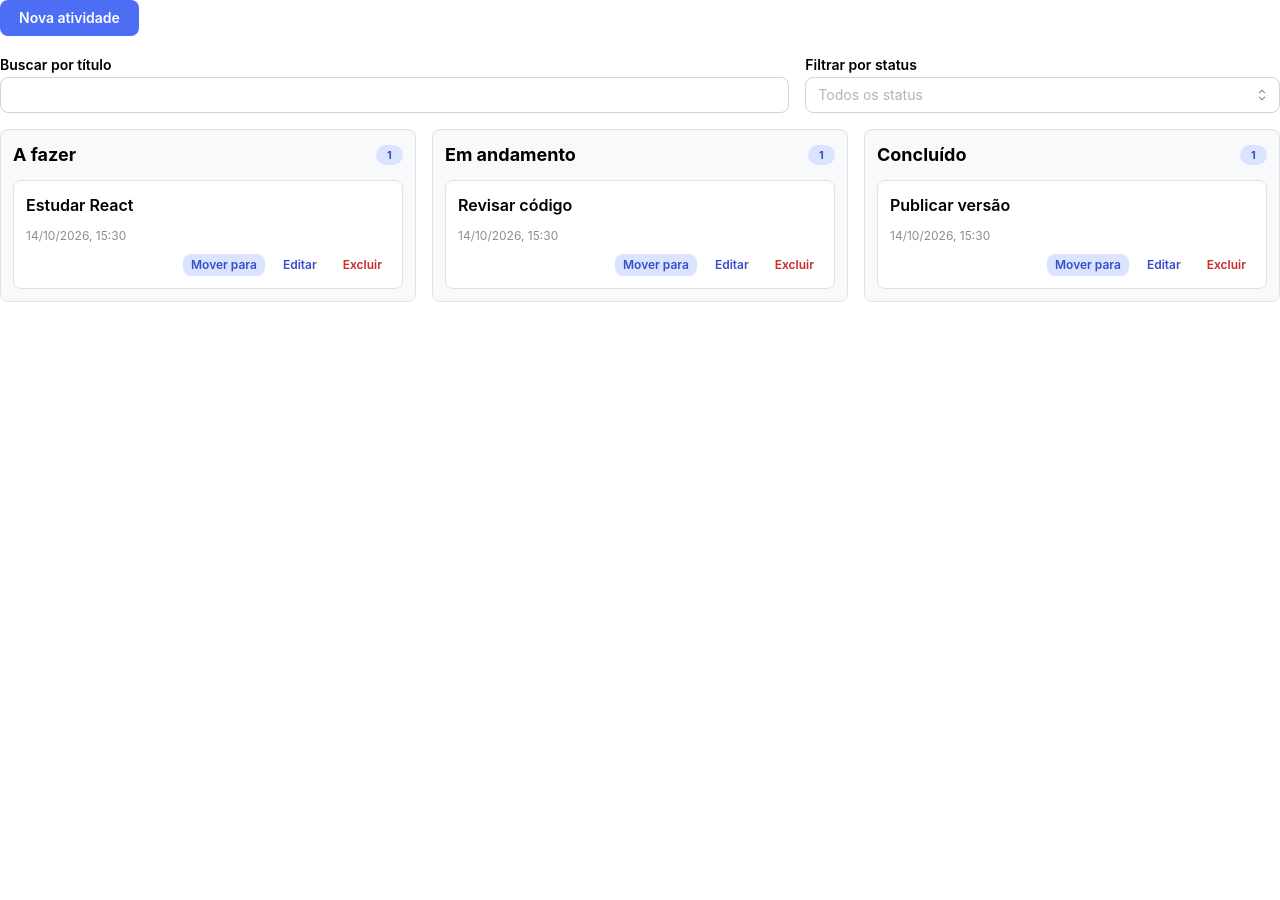
Test case: KanbanBoard › exclusão › só exclui depois da confirmação e notifica o sucesso
This screenshot has width=1280, height=900.
Click the button "Excluir" below "Estudar React".
click(362, 266)  # box top-left (335, 254), bottom-right (390, 276)
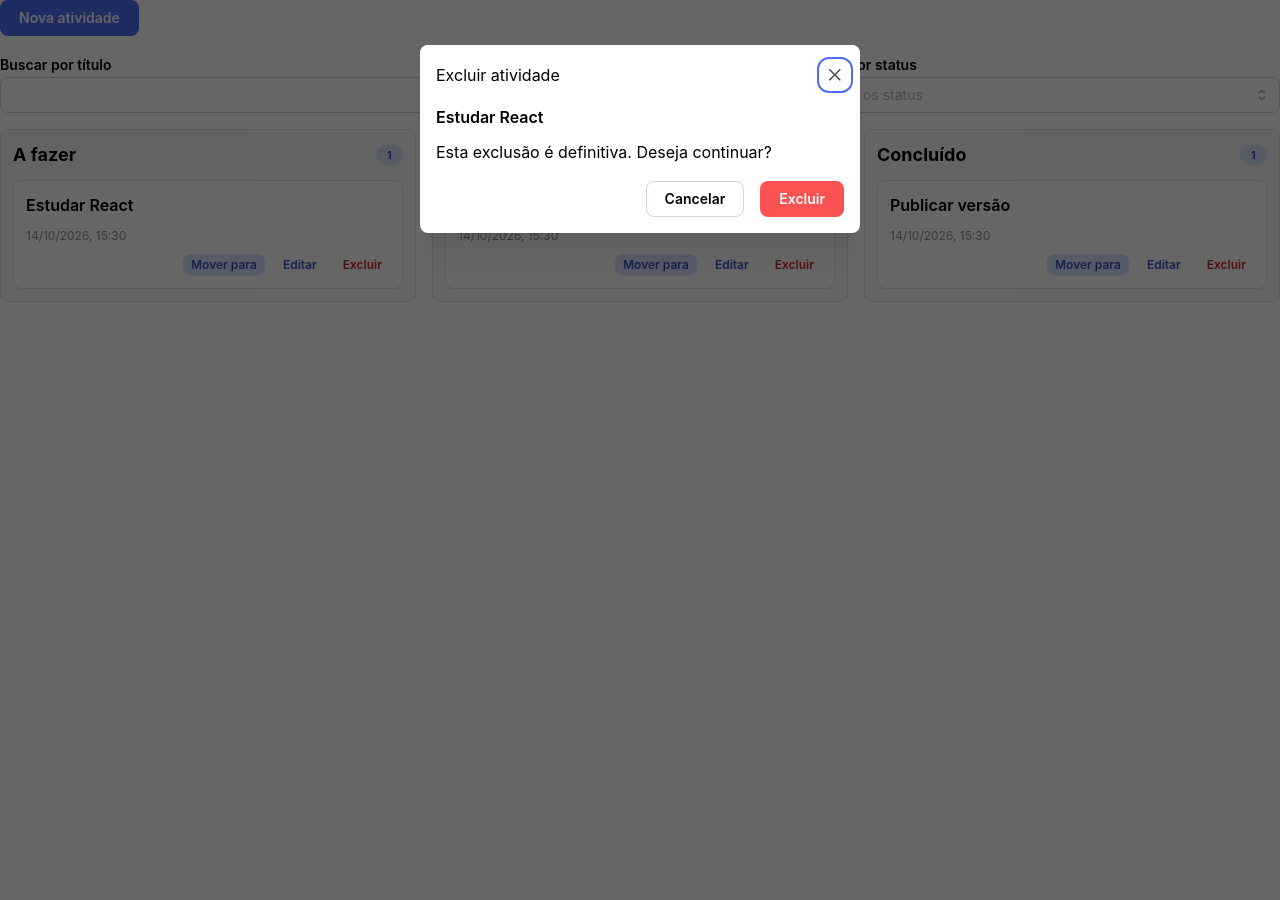
Click the button "Excluir".
click(802, 199)  # box top-left (760, 181), bottom-right (844, 217)
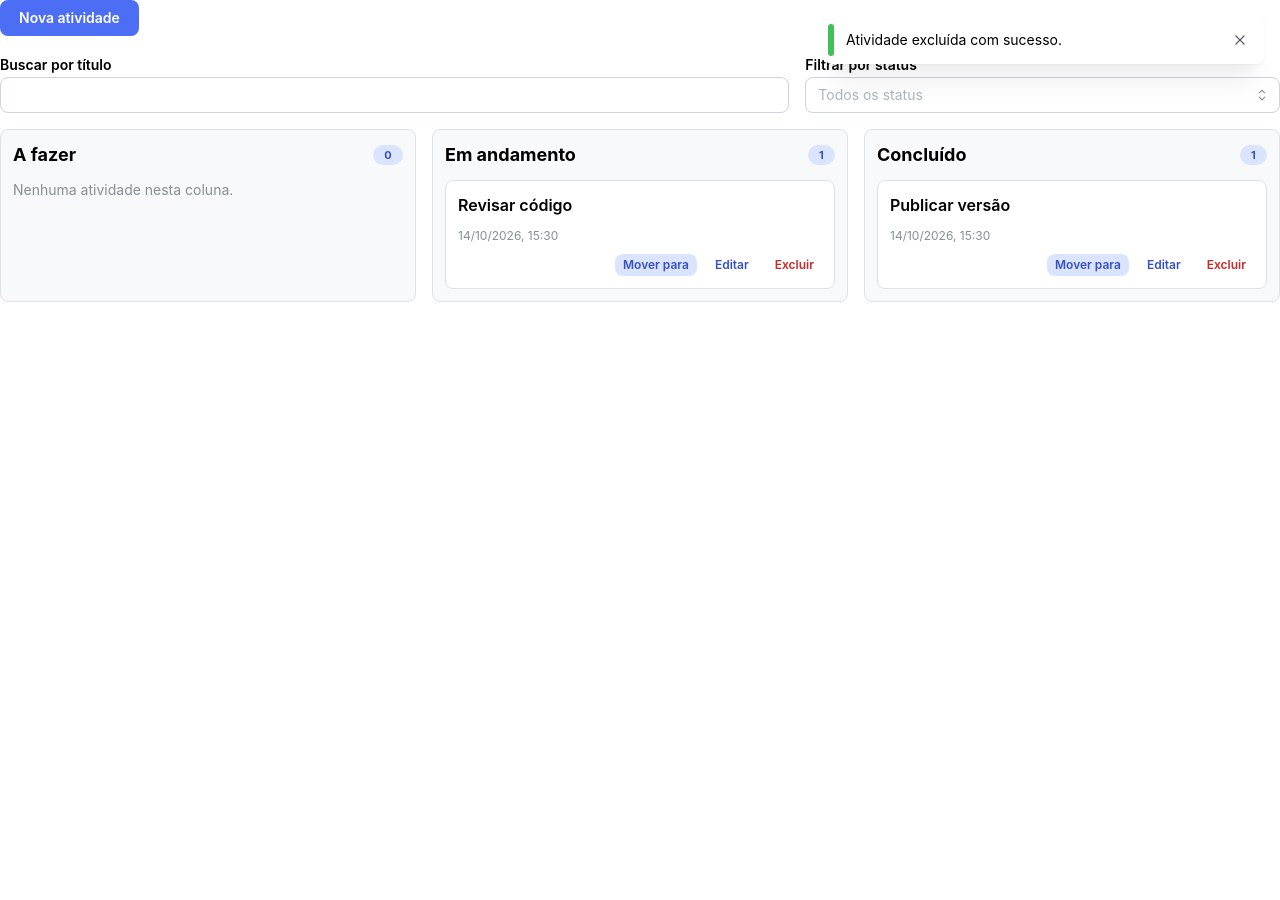
Expected: the text "Estudar React" is gone
Expected: the text "Atividade excluída com sucesso." is shown, top-left (846, 31), bottom-right (1062, 48)
